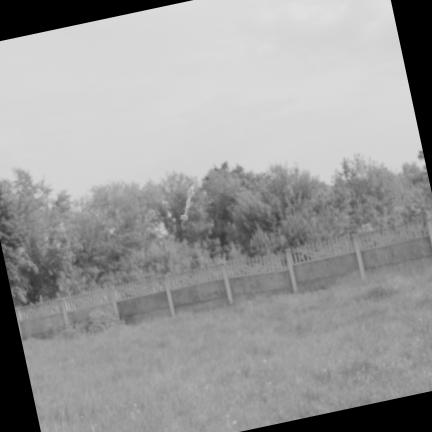Shahed: (180, 186, 194, 220)
